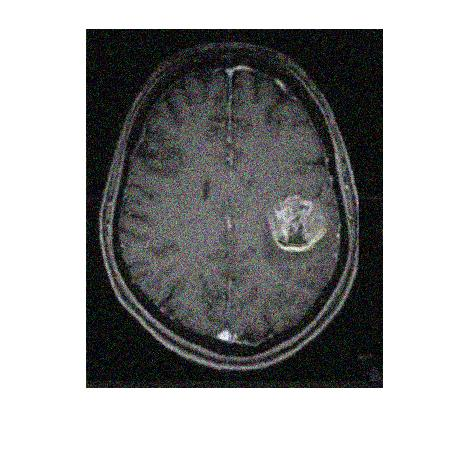Brain_Cancer: (263, 193, 328, 257)
